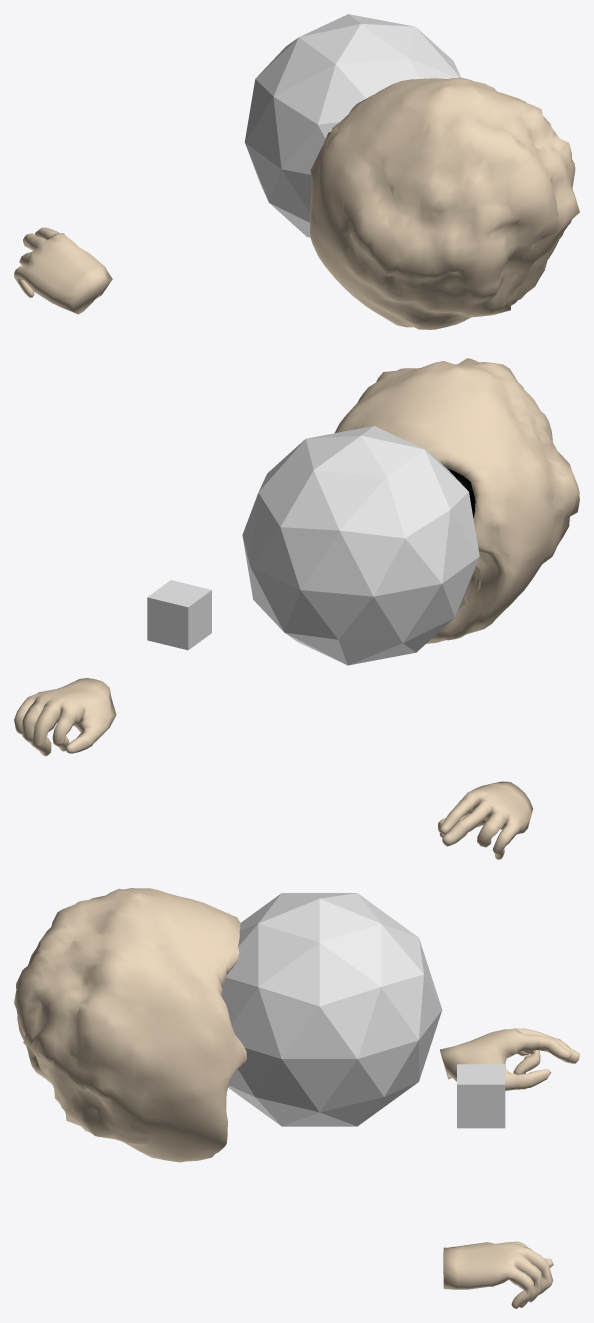
The model's file is Buckshot.fbx.
The picture shows the model from 3 angles, top to bottom: view 1: azimuth 30°, elevation 25°; view 2: azimuth 150°, elevation 25°; view 3: azimuth 270°, elevation 25°; orthographic projection. The views are drawn at different scales.
Parts seen in each view (by area): view 1: Head, Cube, LeftHand; view 2: Cube, Head, RightHand, LeftHand; view 3: Head, Cube, RightHand, LeftHand.
Part boxes in pixels (x1,y1,x2,y2): Head: [309, 77, 579, 329]; Cube: [244, 14, 460, 237]; LeftHand: [14, 227, 112, 314]; Cube: [147, 426, 479, 665]; Head: [335, 358, 579, 643]; RightHand: [14, 678, 116, 756]; LeftHand: [438, 781, 532, 859]; Head: [14, 888, 246, 1162]; Cube: [221, 893, 505, 1128]; RightHand: [443, 1241, 553, 1308]; LeftHand: [440, 1028, 579, 1090].
Size of the model in its own units: 471 by 271 by 461.
